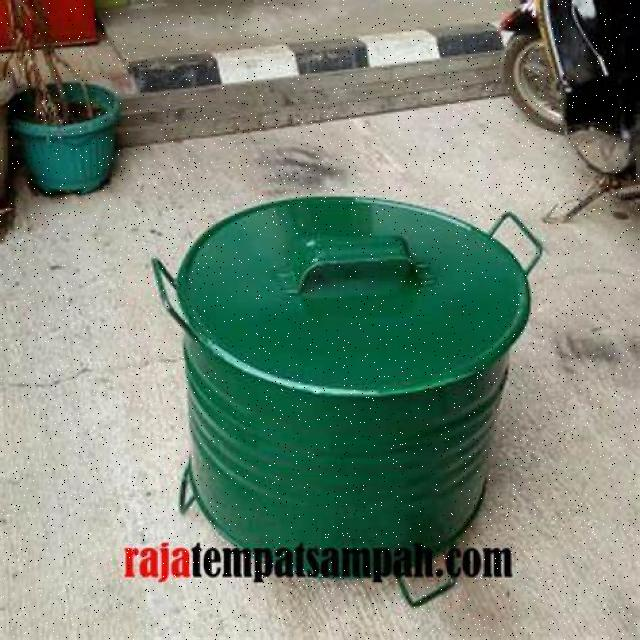garbage container: (147, 171, 582, 545)
